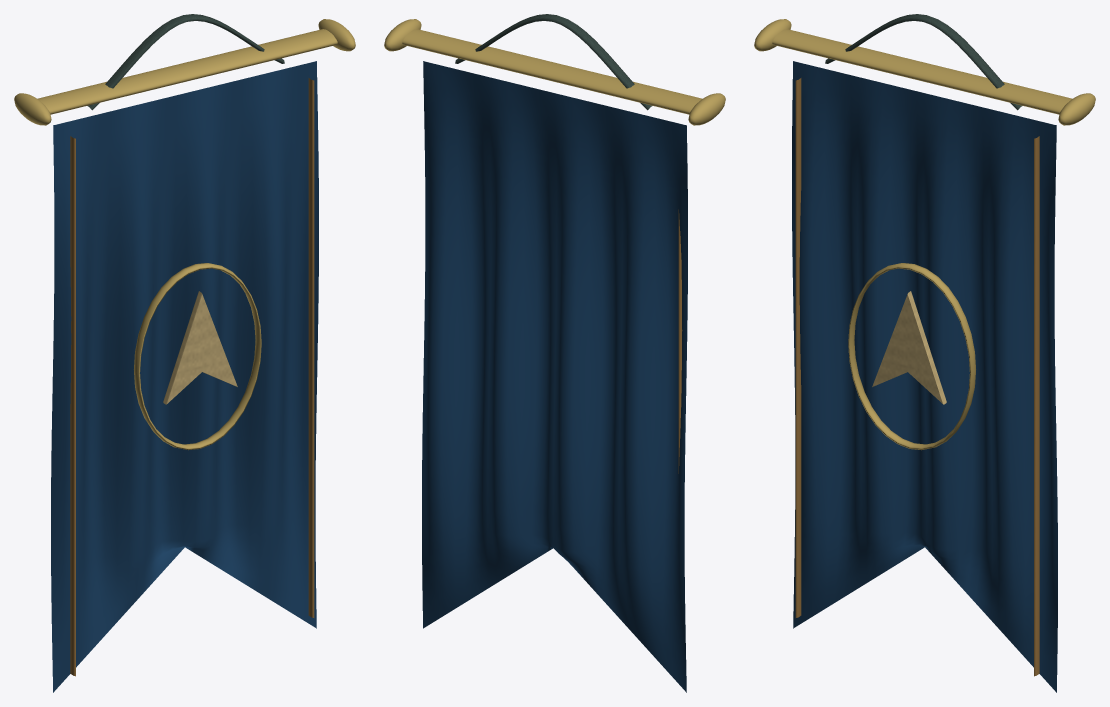
The model's file is hanging-banner.glb.
The picture shows the model from 3 angles, left to right: view 1: azimuth 30°, elevation 25°; view 2: azimuth 150°, elevation 25°; view 3: azimuth 330°, elevation 25°; orthographic projection.
Visible parts, largest first — view 1: hanging-banner; view 2: hanging-banner; view 3: hanging-banner.
Part boxes in pixels (left/top/right/bottom): hanging-banner: left=14, top=14, right=355, bottom=692; hanging-banner: left=384, top=14, right=725, bottom=692; hanging-banner: left=754, top=14, right=1095, bottom=692.
Bounding box in the file's own units: 0.55 × 1.05 × 0.1.
Materials: 5 (2 with a texture image).
